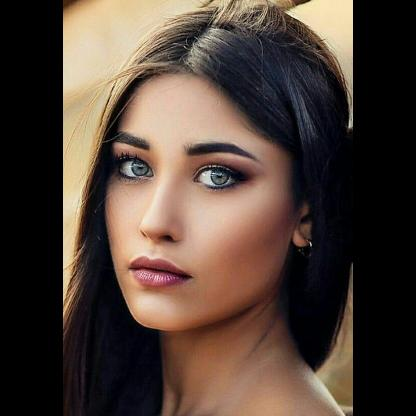Female: (103, 72, 315, 330)
